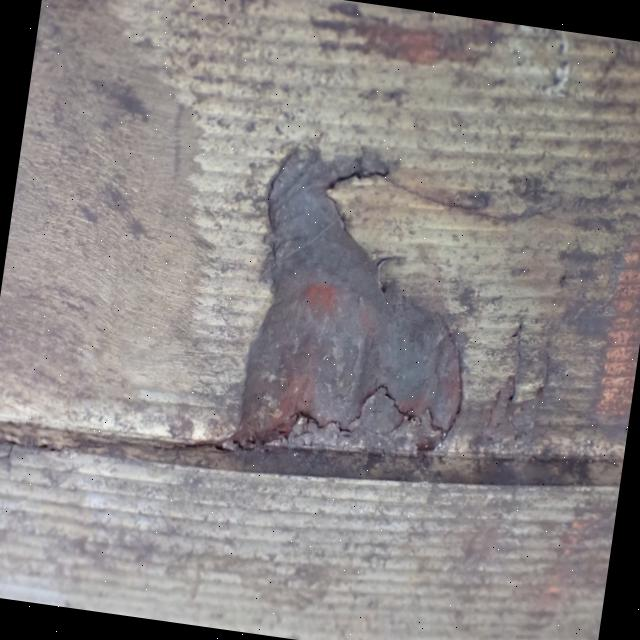Peeling: (239, 141, 493, 467)
